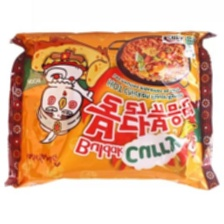snack: (0, 24, 224, 195)
